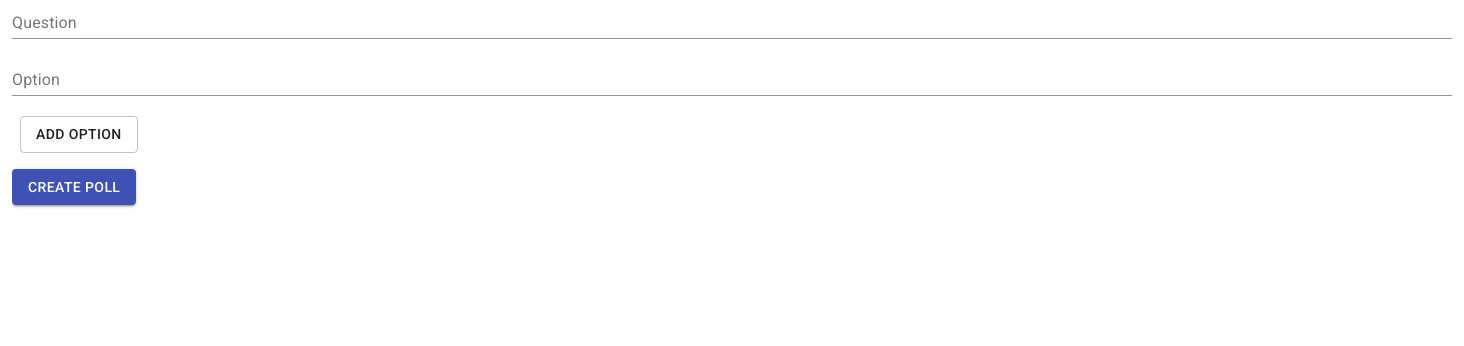
Component PollCreator › updating › render Update button
Type "option 1" into the field labelled "Option" at (732, 82), box [12,67,1452,96]
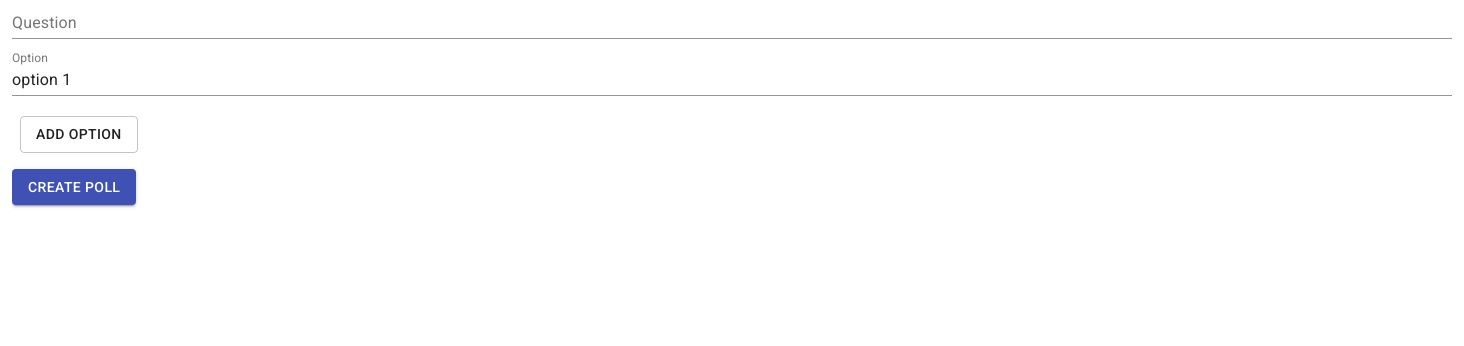
Click the button "Add option" at (79, 134), box [20,116,138,152]
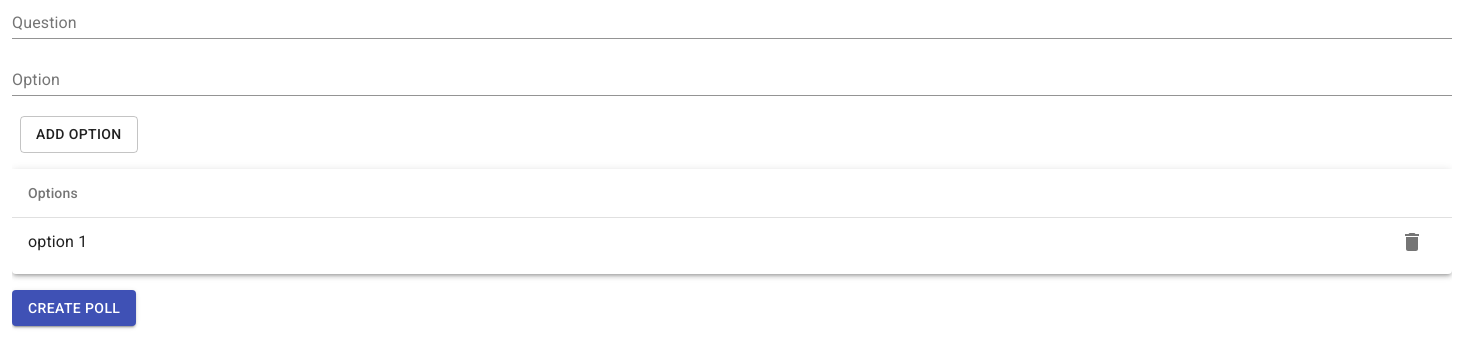
Click the button "option 1" at (58, 241), box [28,232,87,250]
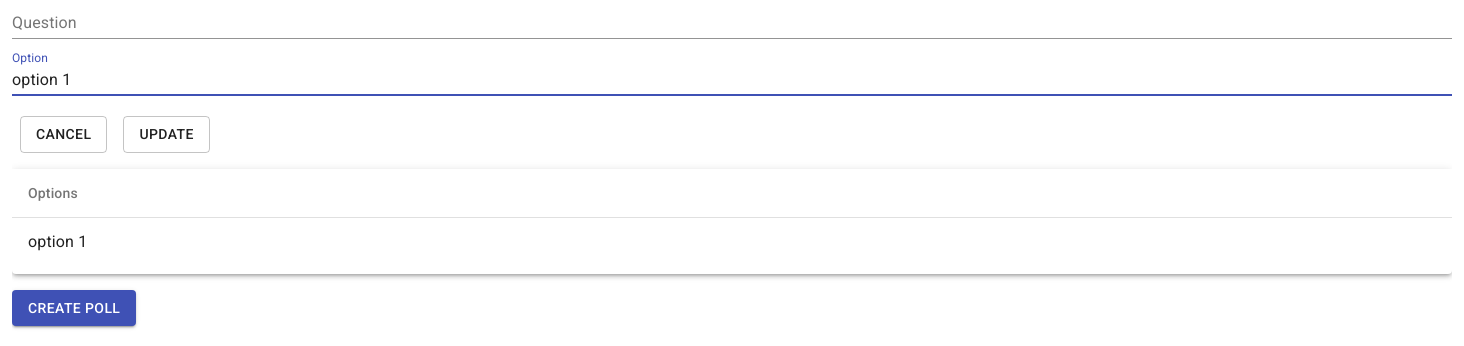
Expected: the text "Update" is shown, [139,122,194,146]
